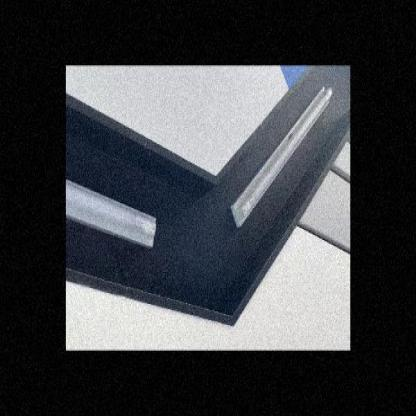light_off: (224, 79, 338, 234), (66, 145, 161, 266)
